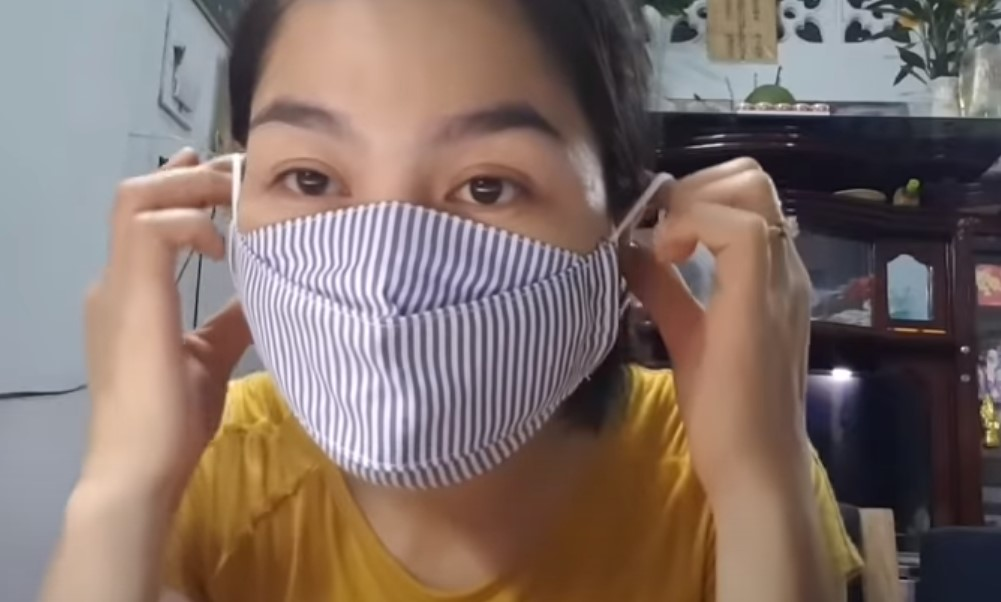face_with_mask: (219, 2, 670, 492)
